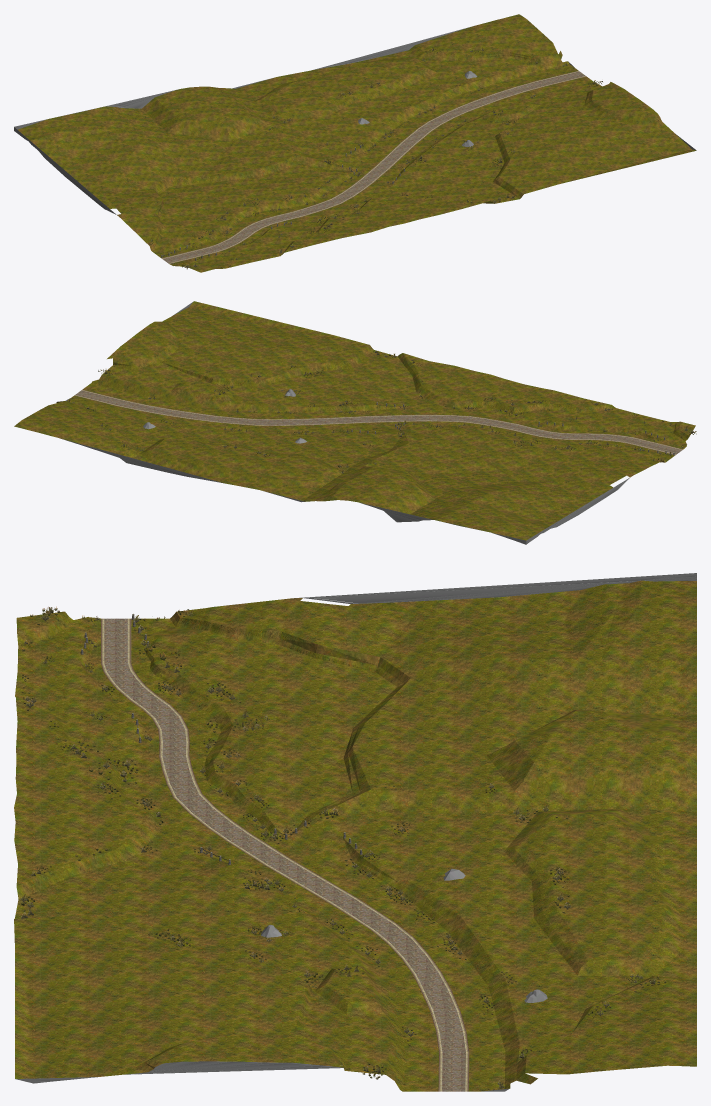
File: EastTristaHighway2.obj
3 views of the same model, one above another, from view 1: azimuth 30°, elevation 25°; view 2: azimuth 150°, elevation 25°; view 3: azimuth 270°, elevation 25° (orthographic). The views are drawn at different scales.
Visible parts, largest first — view 1: Object.3, Object.5, Object.1, Object.4; view 2: Object.3, Object.5, Object.1, Object.4; view 3: Object.3, Object.5, Object.1, Object.4.
Part boxes in pixels (box(x1,y1,x2,y2)): Object.3: box(14, 14, 696, 272); Object.5: box(162, 71, 585, 263); Object.1: box(146, 47, 602, 269); Object.4: box(162, 70, 586, 263); Object.3: box(14, 301, 695, 544); Object.5: box(75, 390, 682, 454); Object.1: box(67, 350, 696, 473); Object.4: box(74, 389, 682, 454); Object.3: box(14, 573, 696, 1091); Object.5: box(104, 618, 465, 1091); Object.1: box(20, 606, 666, 1090); Object.4: box(101, 618, 469, 1091).
Bounding box in the file's own units: 240 × 11.22 × 146.
11 materials, 11 textured.
